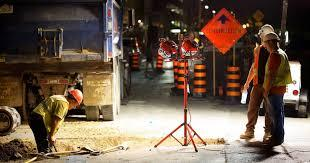safe person: (261, 30, 301, 147), (64, 84, 86, 112)
